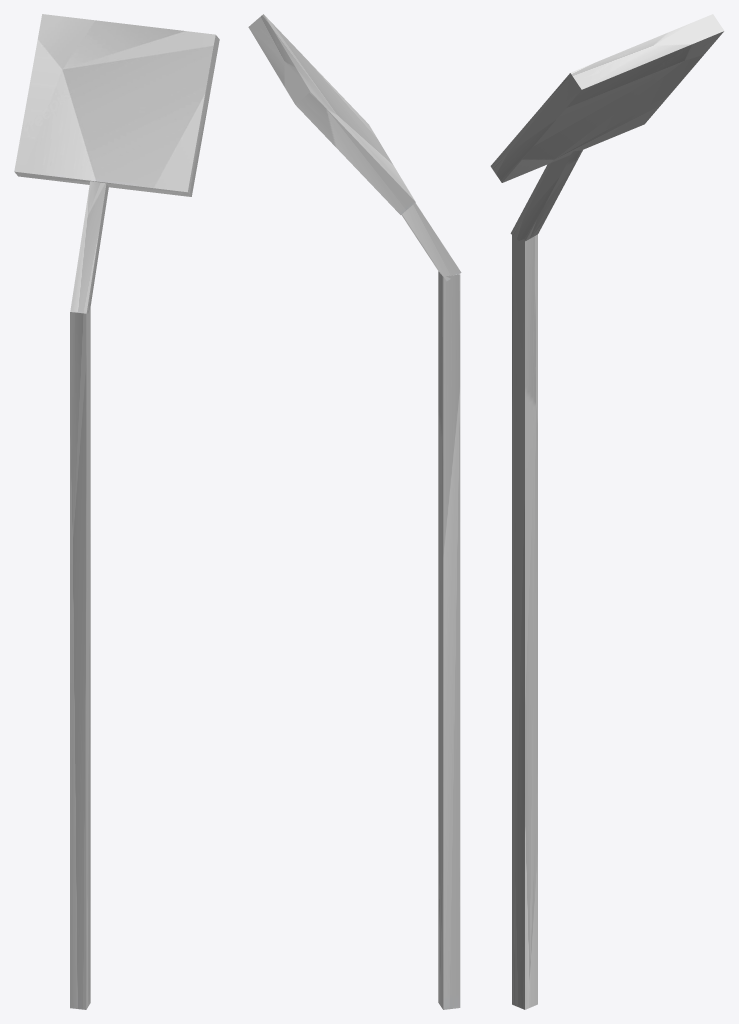
The model's file is Faro4.obj.
3 views of the same model, side by side, from view 1: azimuth 30°, elevation 25°; view 2: azimuth 150°, elevation 25°; view 3: azimuth 270°, elevation 25° (orthographic). The views are drawn at different scales.
Visible parts, largest first — view 1: group137 pasted__pCube21, group137 pasted__pCube20, pasted__pasted__pCube20 pasted__group134 group137; view 2: group137 pasted__pCube20, group137 pasted__pCube21, pasted__pasted__pCube20 pasted__group134 group137; view 3: group137 pasted__pCube20, group137 pasted__pCube21, pasted__pasted__pCube20 pasted__group134 group137.
Part boxes in pixels (left/top/right/bottom): group137 pasted__pCube21: left=14, top=14, right=219, bottom=196; group137 pasted__pCube20: left=70, top=307, right=90, bottom=1009; pasted__pasted__pCube20 pasted__group134 group137: left=70, top=181, right=108, bottom=313; group137 pasted__pCube20: left=438, top=271, right=460, bottom=1009; group137 pasted__pCube21: left=248, top=14, right=415, bottom=214; pasted__pasted__pCube20 pasted__group134 group137: left=401, top=203, right=461, bottom=281; group137 pasted__pCube20: left=512, top=234, right=537, bottom=1009; group137 pasted__pCube21: left=490, top=14, right=724, bottom=182; pasted__pasted__pCube20 pasted__group134 group137: left=510, top=150, right=582, bottom=241.
Size of the model in its own units: 2.69 by 12.95 by 2.7.
1 material, 1 textured.
